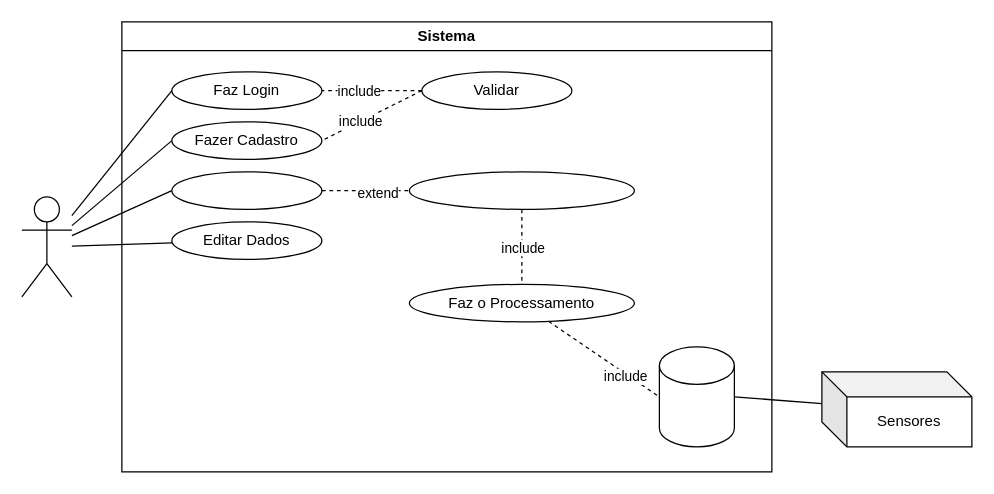
This 994x494 diagram has some shape labels left out. Each missing label, with the centre of its shape:
"Cliente" goes at point 46,246.
"DB" goes at point 696,396.
"Gera Dashboard" goes at point 521,190.
"Visualizar Gráficos" goes at point 246,190.
